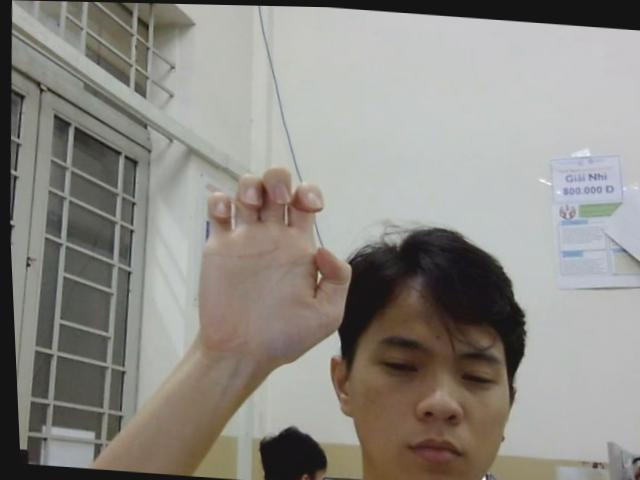E: (187, 159, 356, 361)
